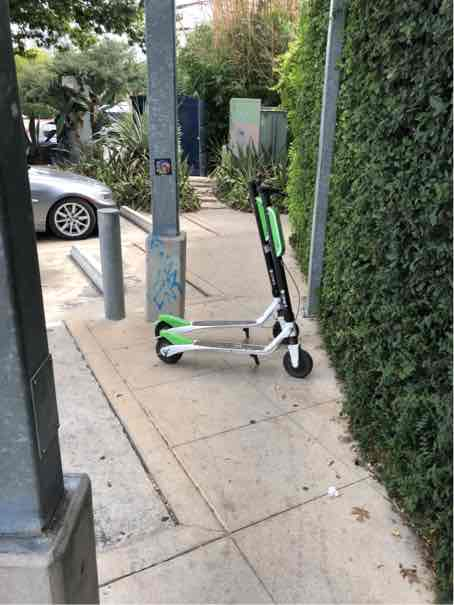scooter: (151, 164, 315, 371)
